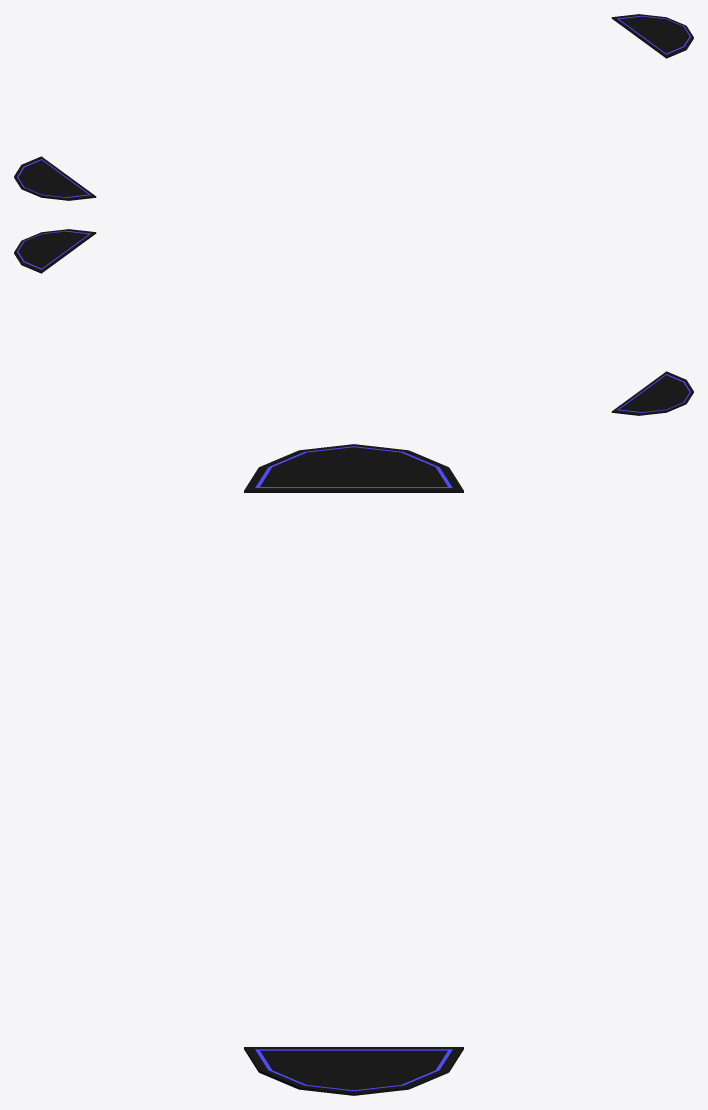
Rendered from elevator.glb.
The picture shows the model from 3 angles, top to bottom: view 1: azimuth 30°, elevation 25°; view 2: azimuth 150°, elevation 25°; view 3: azimuth 270°, elevation 25°; orthographic projection. The views are drawn at different scales.
Visible parts, largest first — view 1: Elevator; view 2: Elevator; view 3: Elevator.
Part boxes in pixels (<box>): Elevator: <box>14,14,693,200</box>; Elevator: <box>14,229,693,415</box>; Elevator: <box>244,444,463,1095</box>.
Size of what is drawn, in the model's own units: 84.68 by 0.1513 by 12.11.
1 material, 1 textured.
